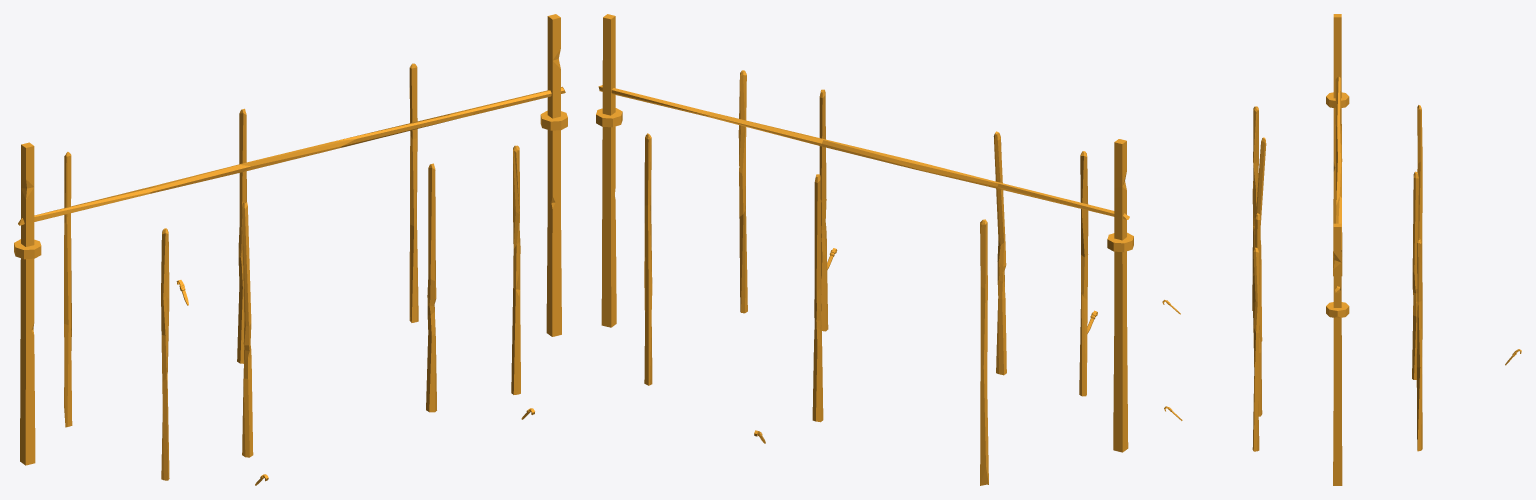
The model's file is SM_Tent_Noble_Striped_Construct_A_Frame_Fantasy.fbx.
3 renders of one model, left to right at view 1: azimuth 30°, elevation 25°; view 2: azimuth 150°, elevation 25°; view 3: azimuth 270°, elevation 25°, orthographic. The views are drawn at different scales.
Visible parts, largest first — view 1: tent-noble-striped-construct-a-frame-fantasy; view 2: tent-noble-striped-construct-a-frame-fantasy; view 3: tent-noble-striped-construct-a-frame-fantasy.
Part boxes in pixels (bbox=[...]): tent-noble-striped-construct-a-frame-fantasy: bbox=[14, 14, 567, 485]; tent-noble-striped-construct-a-frame-fantasy: bbox=[596, 14, 1133, 485]; tent-noble-striped-construct-a-frame-fantasy: bbox=[1162, 14, 1521, 485].
Size of the model in its own units: 8.7 by 5.12 by 6.03.
